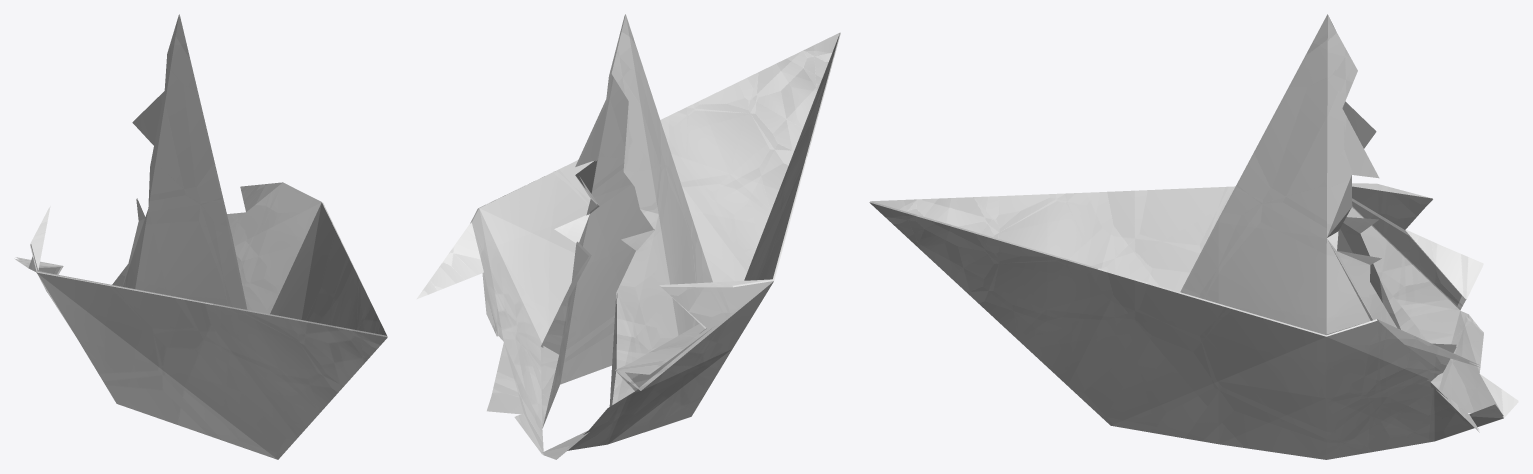
Rendered from G_Paperboat_broken.fbx.
The picture shows the model from 3 angles, left to right: view 1: azimuth 30°, elevation 25°; view 2: azimuth 150°, elevation 25°; view 3: azimuth 270°, elevation 25°; orthographic projection. The views are drawn at different scales.
Parts seen in each view (by area): view 1: Paper Boat; view 2: Paper Boat; view 3: Paper Boat.
Boxes of the visible parts, <box> form: Paper Boat: <box>14,14,387,459</box>; Paper Boat: <box>416,14,840,459</box>; Paper Boat: <box>869,14,1518,459</box>.
Size of the model in its own units: 2.51 by 3.14 by 4.49.
